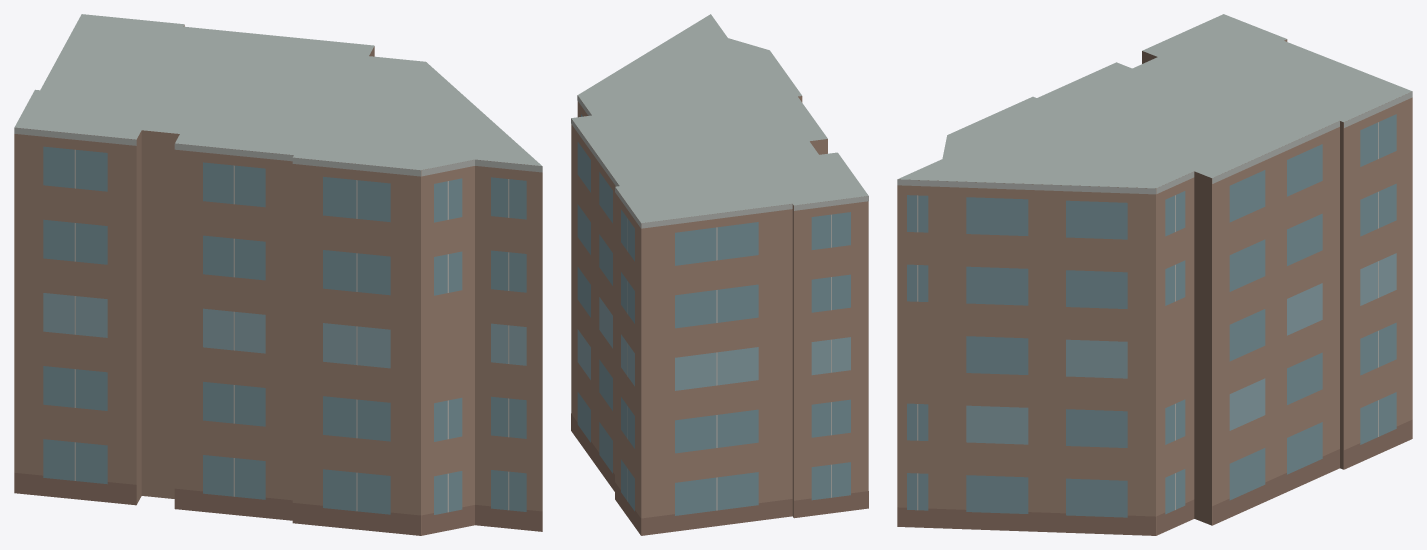
File: survey-upis-32658103.glb
The picture shows the model from 3 angles, left to right: view 1: azimuth 30°, elevation 25°; view 2: azimuth 150°, elevation 25°; view 3: azimuth 270°, elevation 25°; orthographic projection. The views are drawn at different scales.
Visible parts, largest first — view 1: survey-upis-32658103.tmp; view 2: survey-upis-32658103.tmp; view 3: survey-upis-32658103.tmp.
Part boxes in pixels (x1,y1,x2,y2): survey-upis-32658103.tmp: [14, 14, 542, 535]; survey-upis-32658103.tmp: [571, 14, 868, 535]; survey-upis-32658103.tmp: [897, 14, 1412, 535].
Size of the model in its own units: 15.24 by 14.15 by 19.03.
